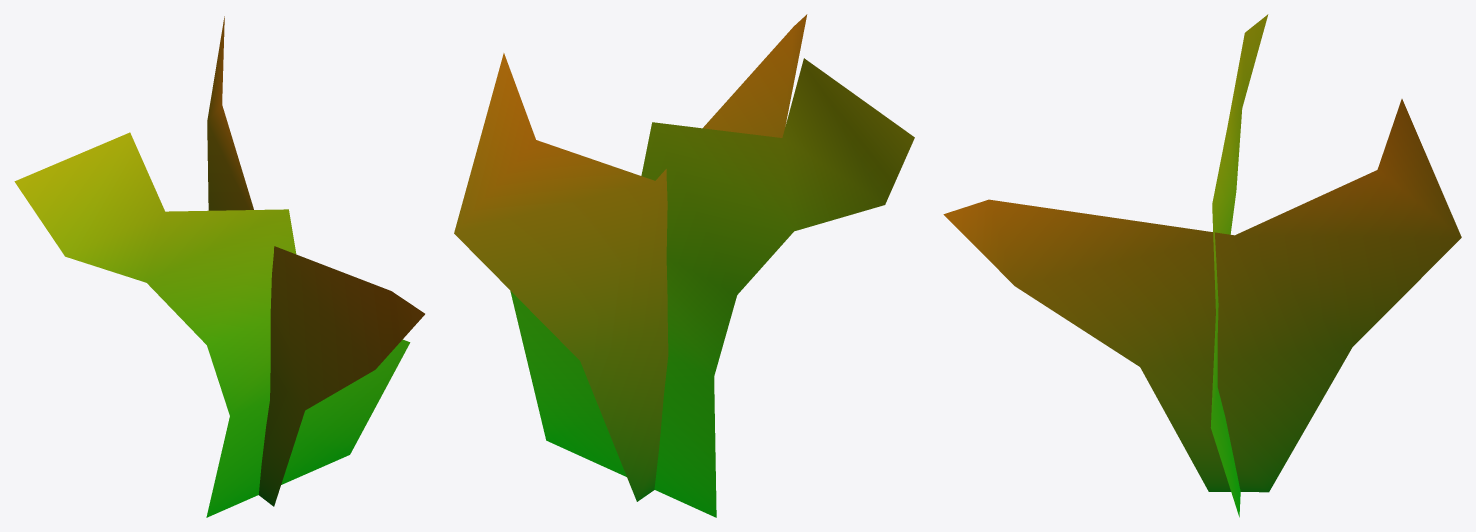
The model's file is Var11Hi60.fbx.
3 views of the same model, side by side, from view 1: azimuth 30°, elevation 25°; view 2: azimuth 150°, elevation 25°; view 3: azimuth 270°, elevation 25° (orthographic). The views are drawn at different scales.
Visible parts, largest first — view 1: bend1; view 2: bend1; view 3: bend1.
Part boxes in pixels (left/top/right/bottom): bend1: left=14, top=16, right=424, bottom=517; bend1: left=454, top=14, right=914, bottom=517; bend1: left=943, top=14, right=1461, bottom=517.
Size of the model in its own units: 1.35 by 1.48 by 1.63.
